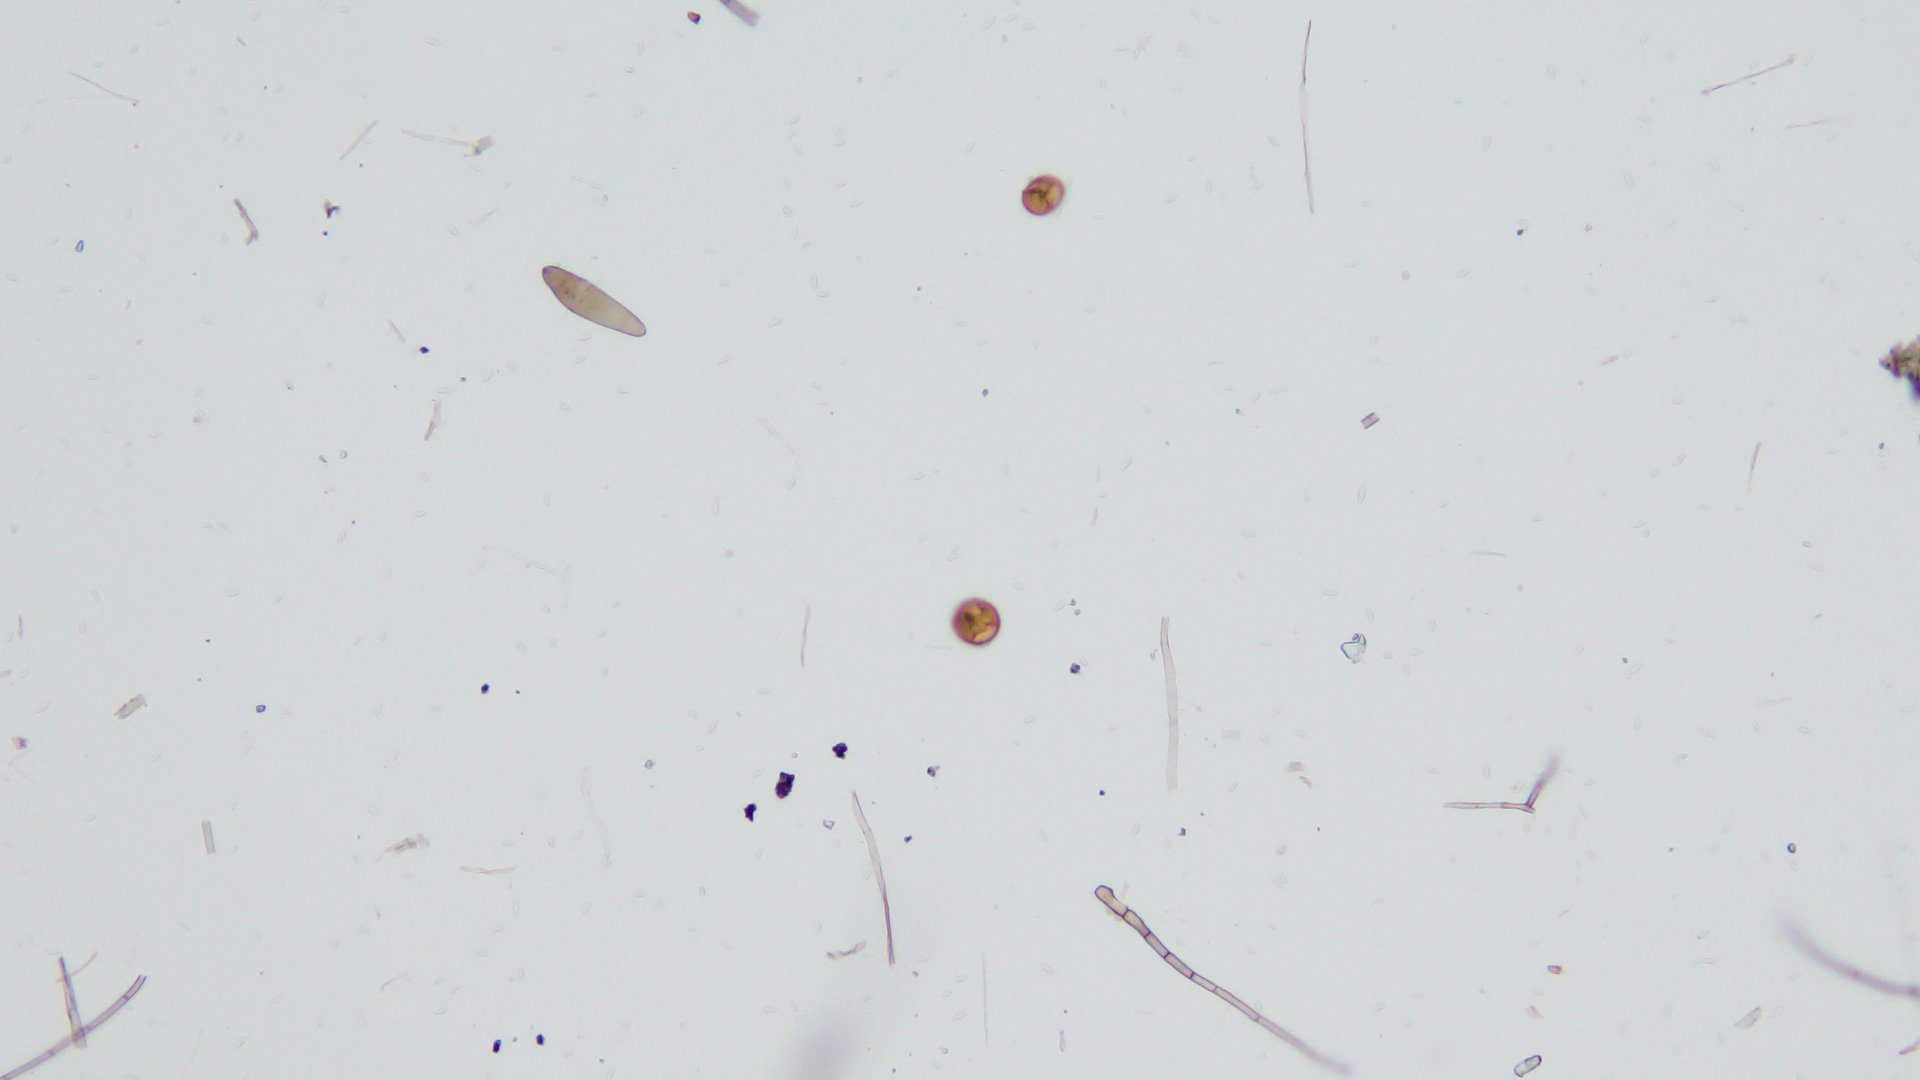dbb_spore: (541, 266, 647, 340)
xb_spore: (952, 597, 1001, 645), (1021, 175, 1065, 216)
